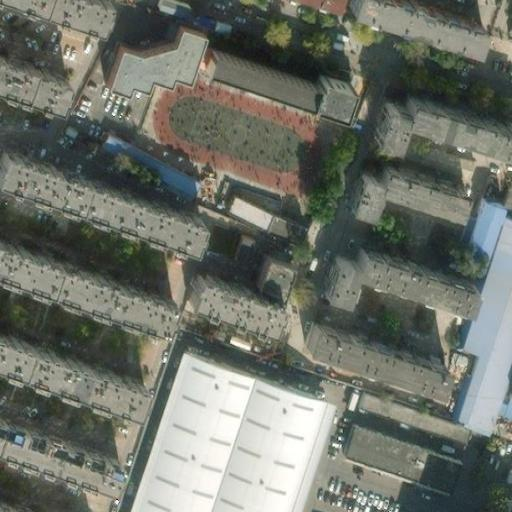building: (116, 349, 326, 512), (0, 233, 171, 326), (446, 208, 512, 425), (0, 338, 148, 425), (296, 315, 444, 389), (0, 413, 119, 494), (364, 94, 512, 156), (315, 244, 464, 305), (335, 419, 454, 487), (347, 0, 484, 56), (99, 17, 195, 86), (337, 158, 457, 210), (346, 385, 463, 438), (198, 47, 310, 100), (93, 129, 185, 190), (179, 270, 270, 323), (391, 133, 476, 185), (217, 190, 294, 239), (454, 200, 499, 266), (245, 248, 283, 296), (304, 72, 345, 110), (148, 0, 210, 24), (496, 337, 512, 393), (0, 495, 51, 512), (491, 173, 512, 212), (222, 231, 244, 259), (490, 389, 512, 415)
